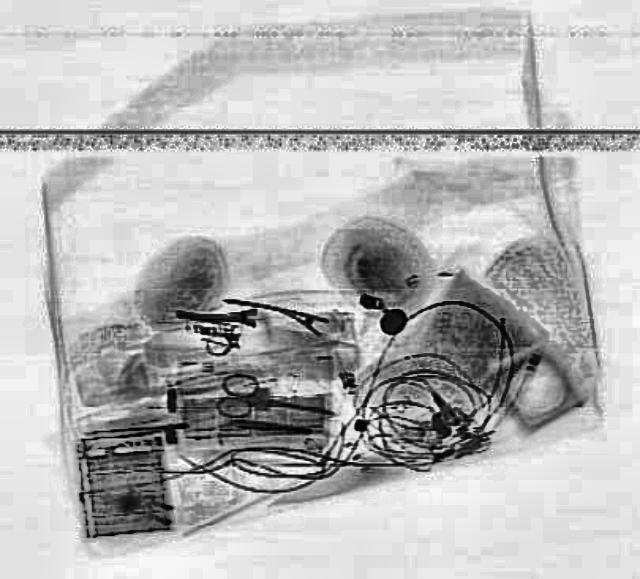Scissors: (212, 370, 338, 430)
